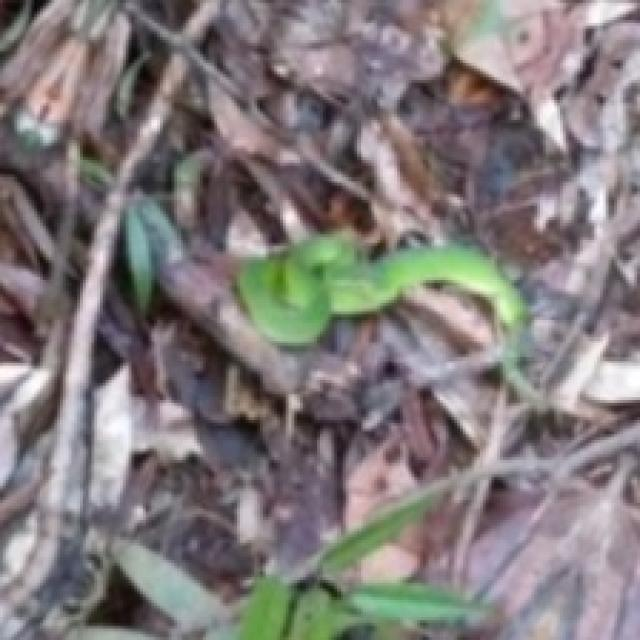north ph temple pitviper: (237, 234, 526, 343)
